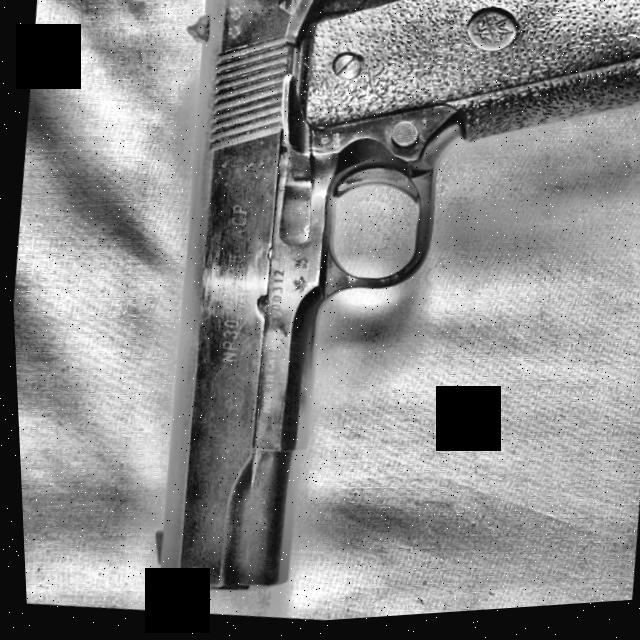Norinco: (113, 0, 640, 634)
